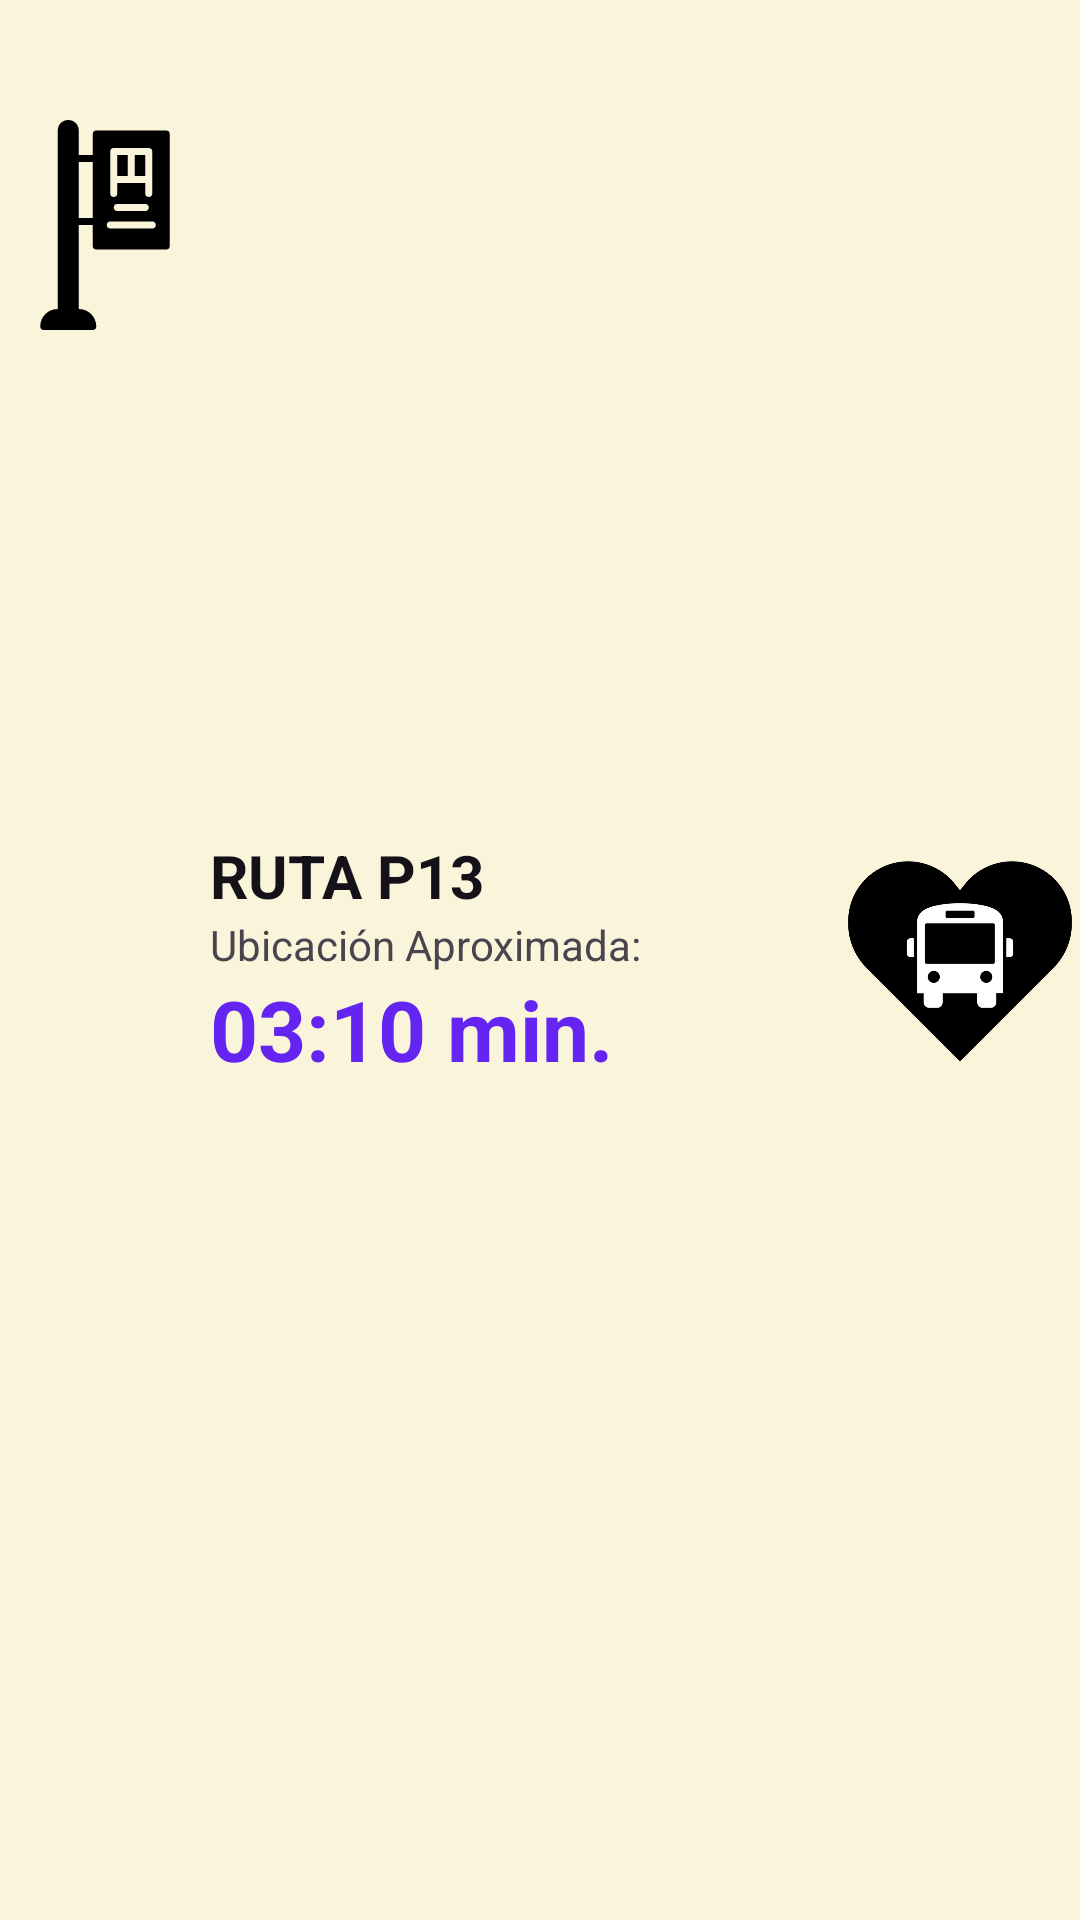

Where icons sit on this 1080x1920 app screen, as (x1, y1, x2, y2):
bus stop: (40, 120, 170, 330)
